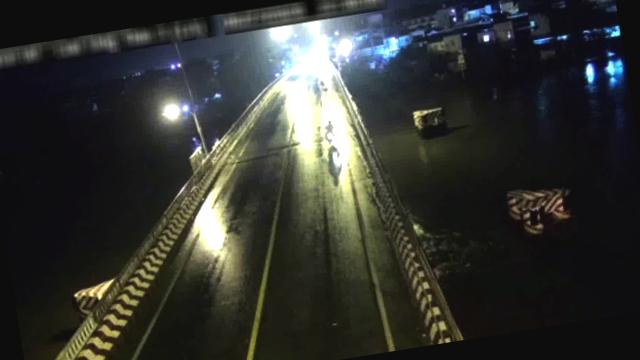Bike: (321, 118, 338, 146), (318, 78, 332, 94)
